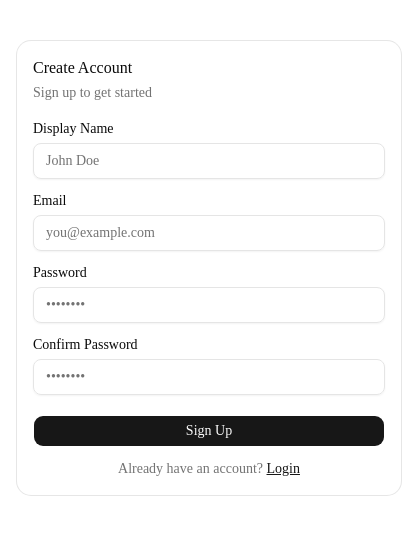
Test case: SignupPage › shows error when passwords do not match
The width and height of the screenshot is (419, 537).
Type "Test User" into the field labelled "Display Name" at (209, 161), box 33,143 -> 385,179
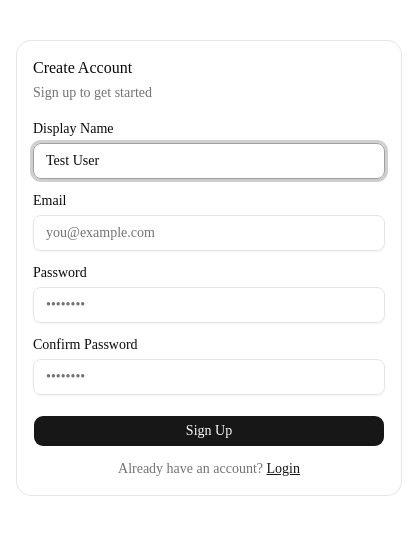
Type "test@test.com" into the field labelled "Email" at (209, 233), box 33,215 -> 385,251
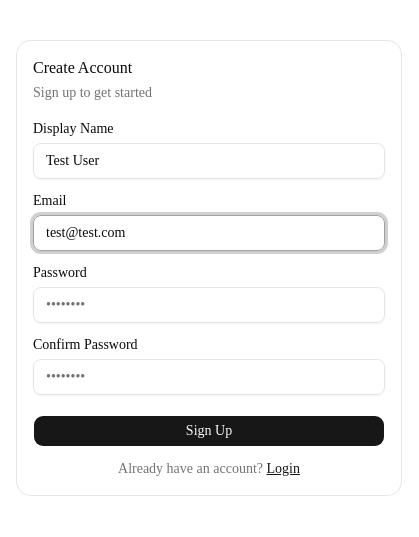
Type "password123" into the password field labelled "Password" at (209, 305), box 33,287 -> 385,323
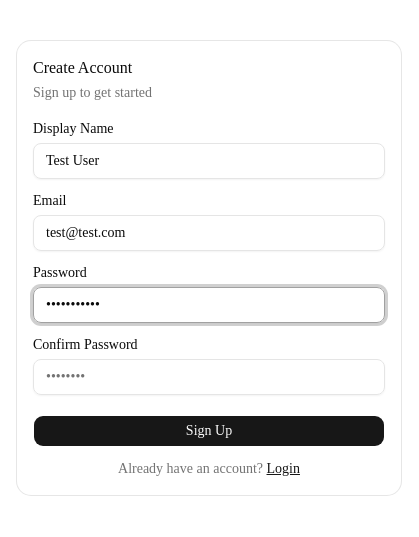
Type "different" into the password field labelled "Confirm Password" at (209, 377), box 33,359 -> 385,395
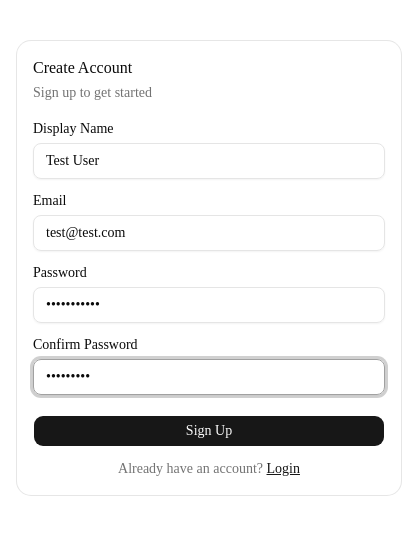
Click the button "Sign Up" at (209, 431), box 33,415 -> 385,447
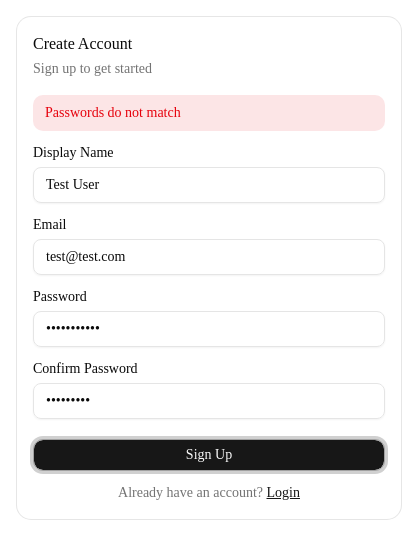
Expected: the text "Passwords do not match" is shown, 33,95 -> 385,131
